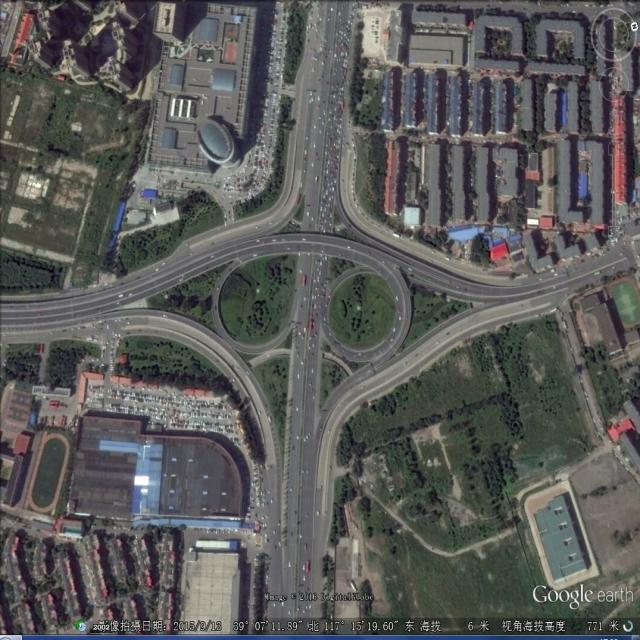overpass: (94, 182, 497, 459)
